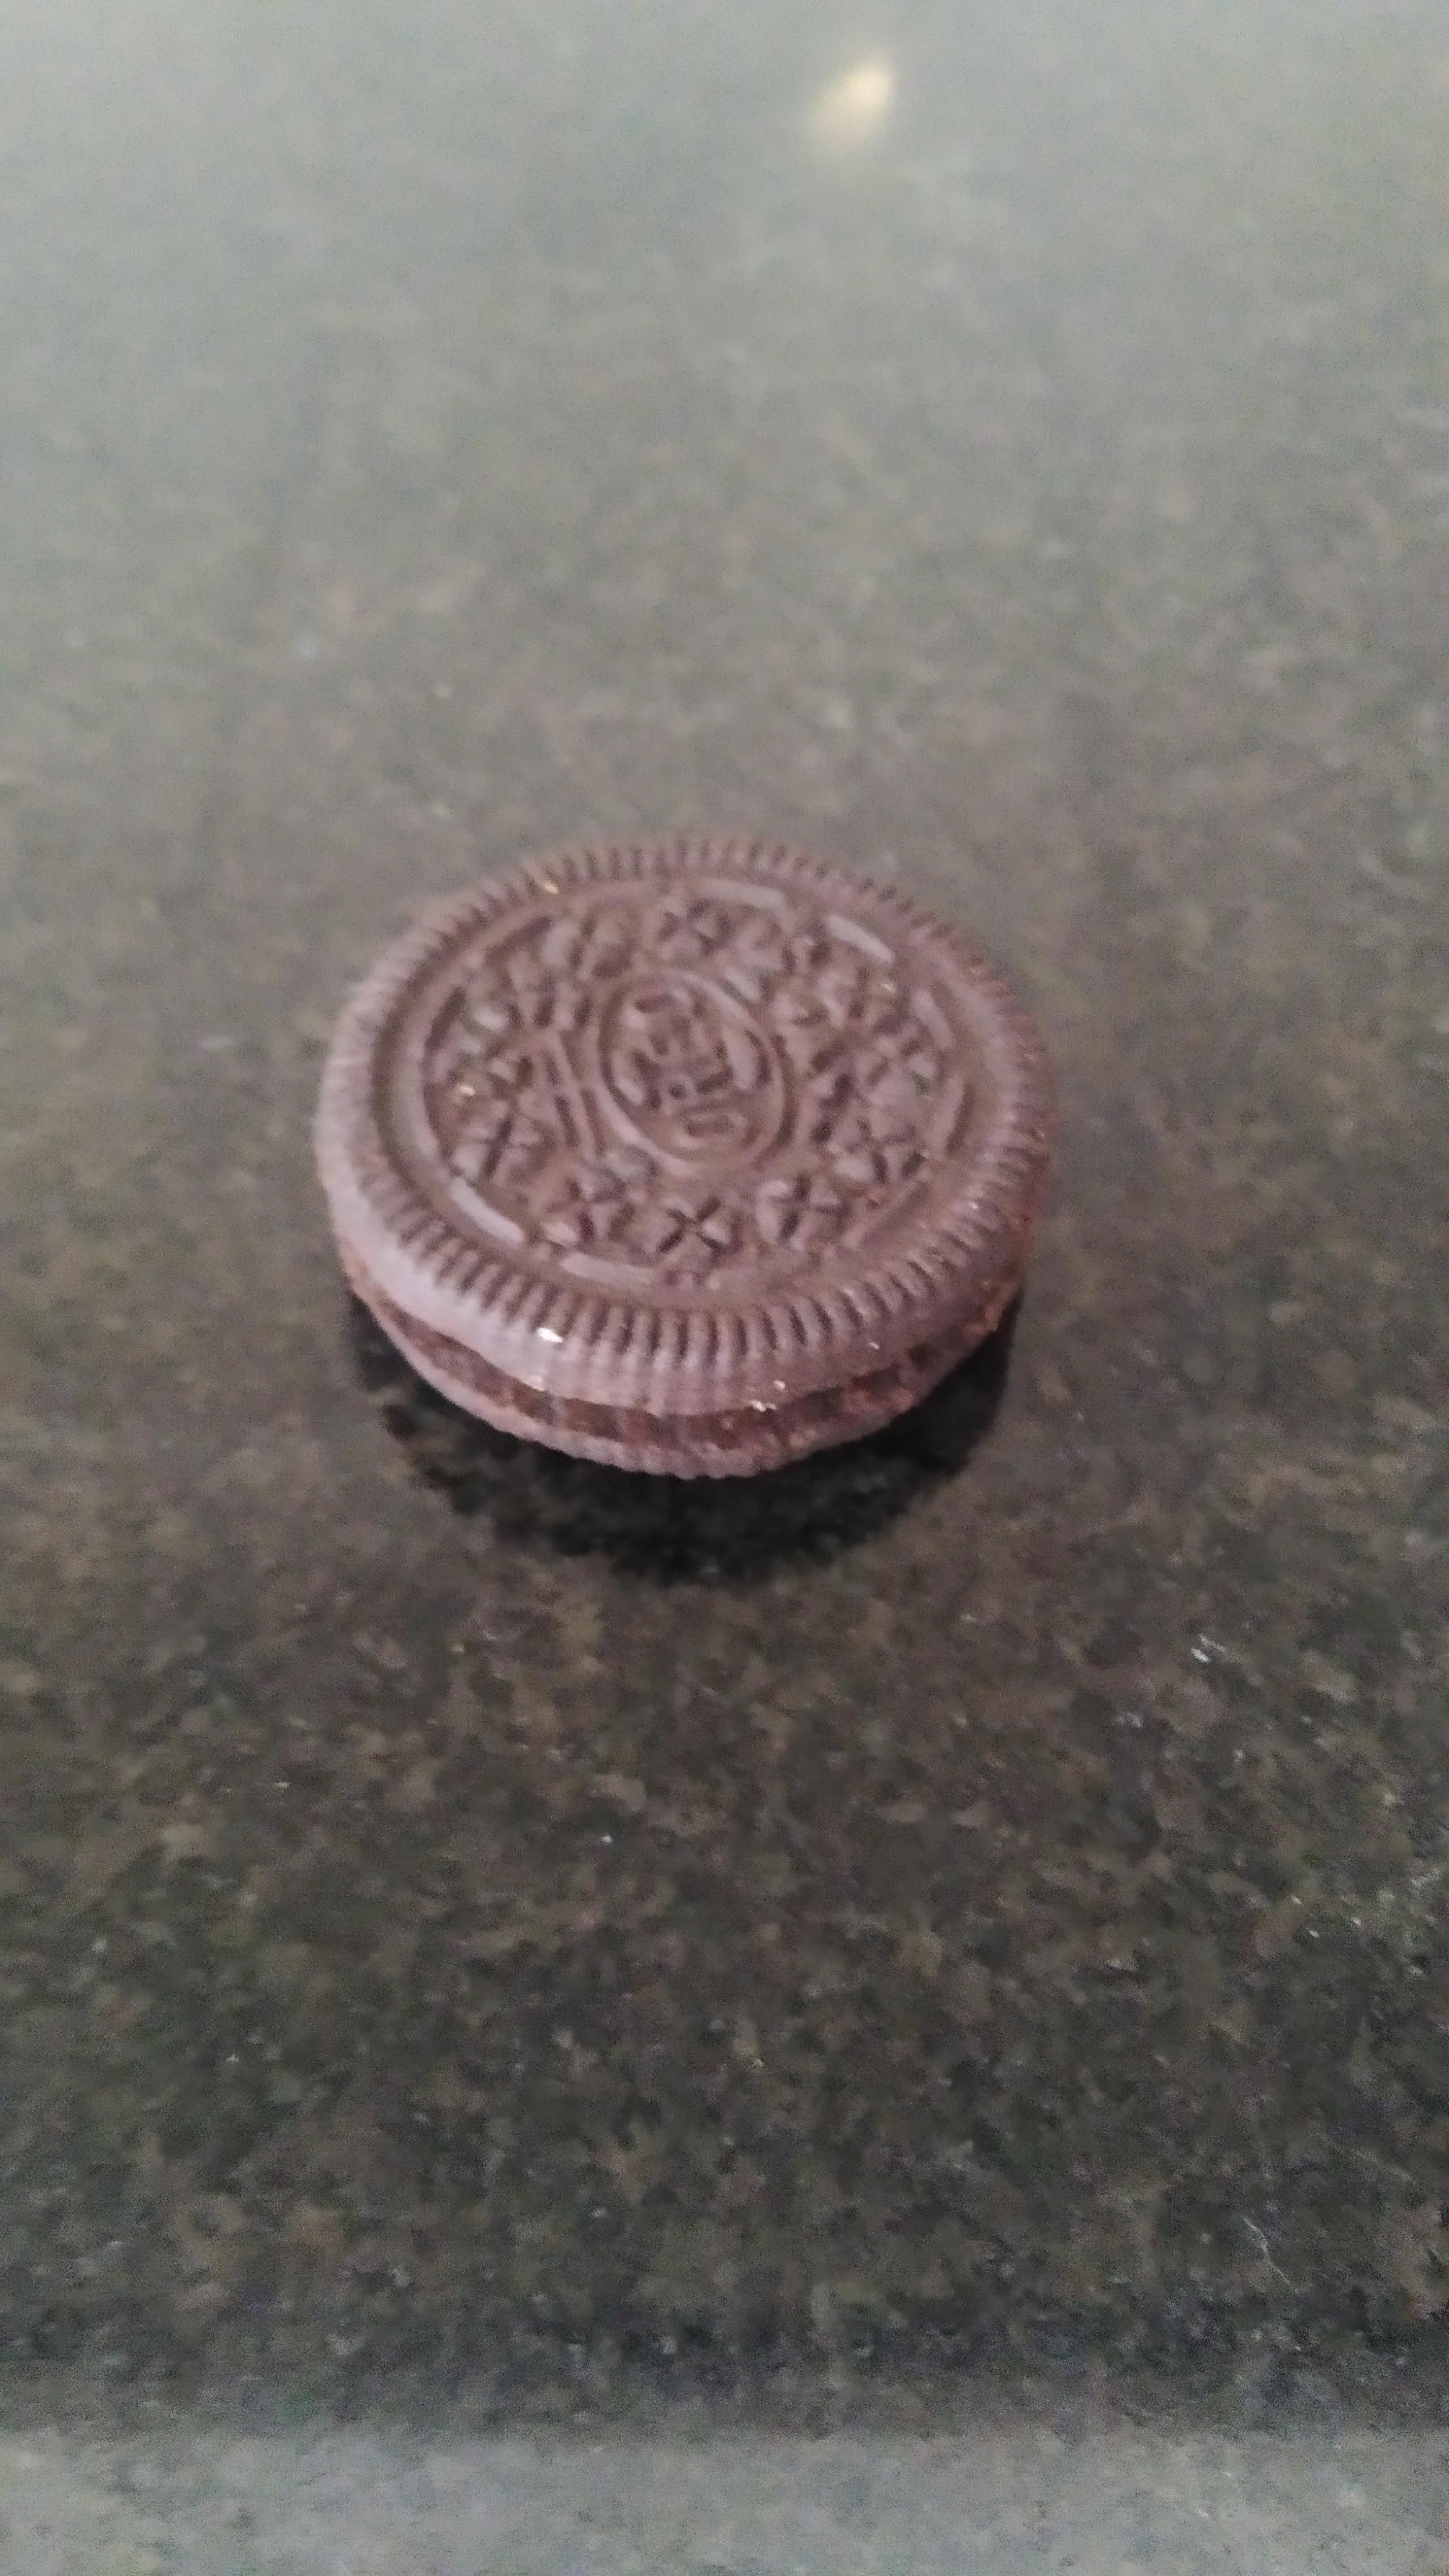oreo: (315, 830, 1056, 1479)
